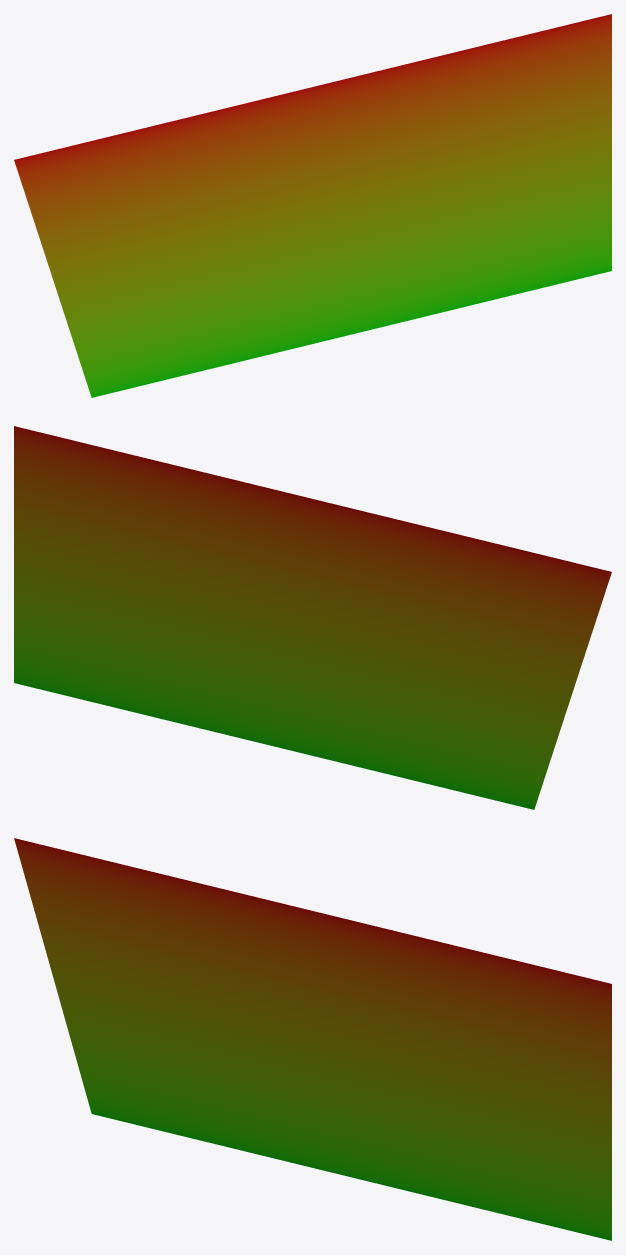
File: Var3_LOD3.fbx
3 views of the same model, one above another, from view 1: azimuth 30°, elevation 25°; view 2: azimuth 150°, elevation 25°; view 3: azimuth 330°, elevation 25° (orthographic).
Visible parts, largest first — view 1: _282e_Var3_LOD3; view 2: _282e_Var3_LOD3; view 3: _282e_Var3_LOD3.
Boxes of the visible parts, left/top/right/bottom form: _282e_Var3_LOD3: left=14, top=14, right=611, bottom=397; _282e_Var3_LOD3: left=14, top=426, right=611, bottom=809; _282e_Var3_LOD3: left=14, top=838, right=611, bottom=1240.
Bounding box in the file's own units: 46.92 × 19.27 × 3.99e-06.
